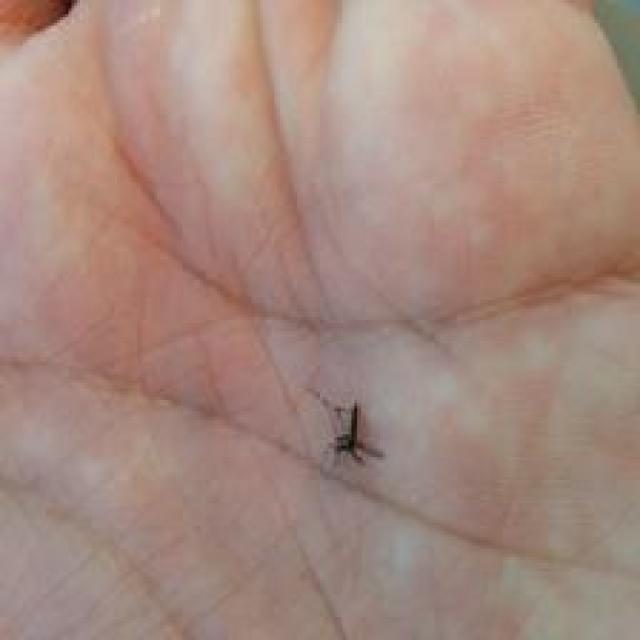Aedes albopictus: (327, 399, 384, 467)
